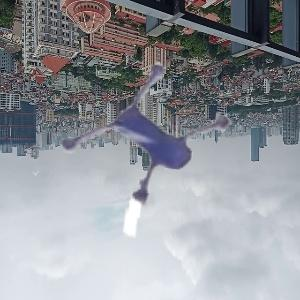drone: (20, 30, 258, 268)
